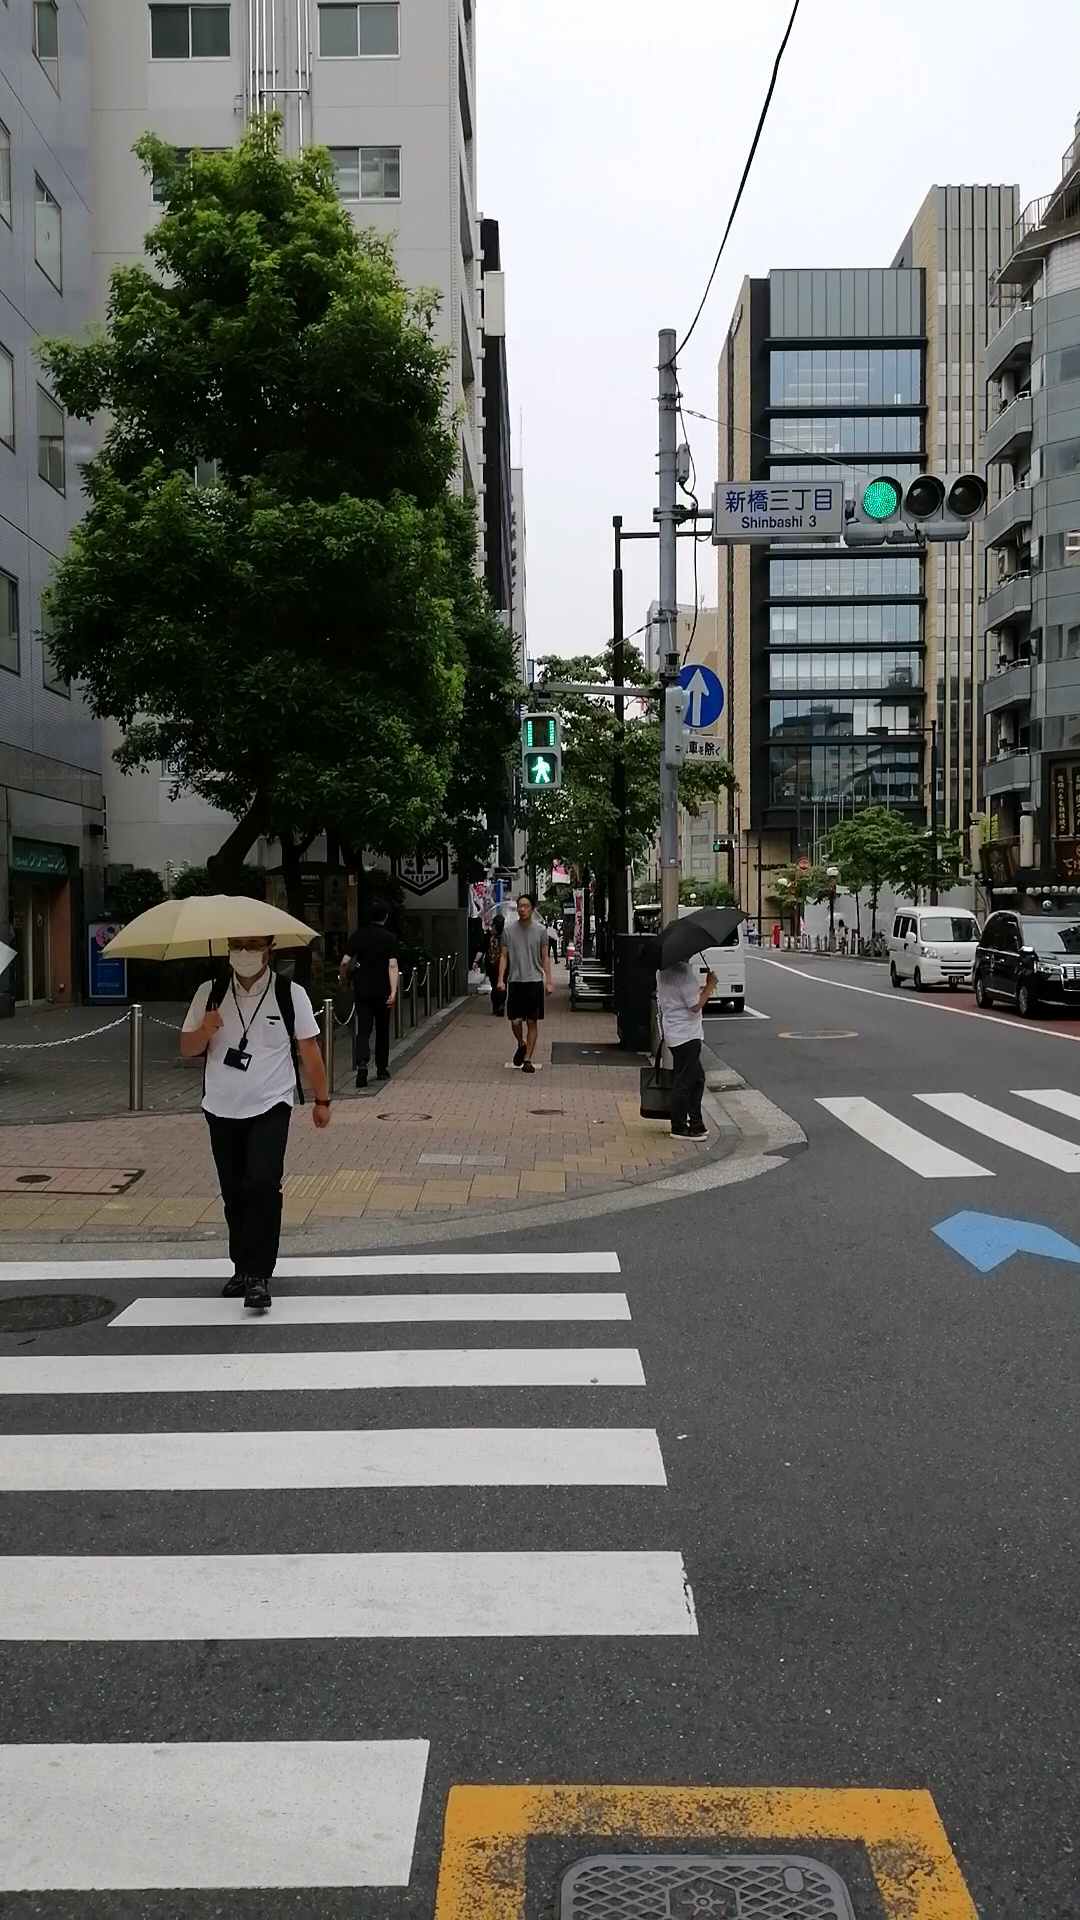green: (518, 713, 562, 793)
